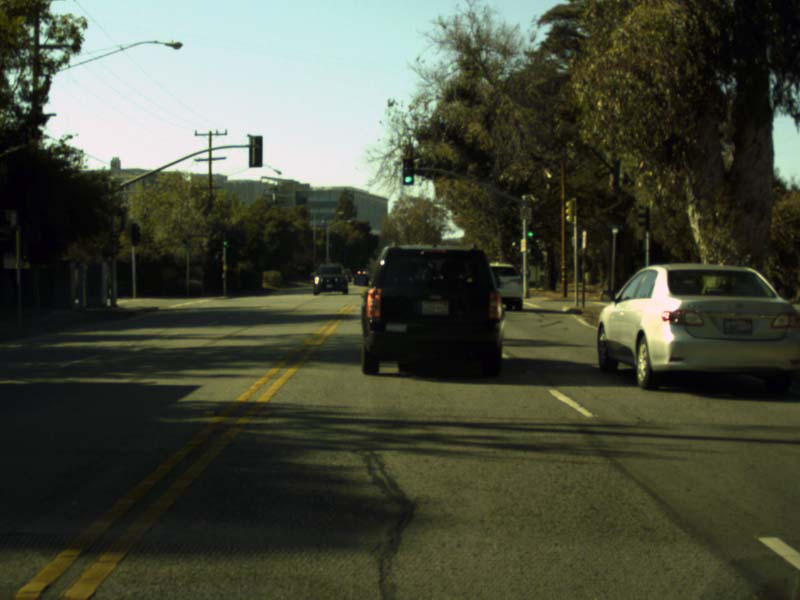Green: (403, 159, 414, 184), (526, 225, 533, 239), (222, 236, 228, 247)
